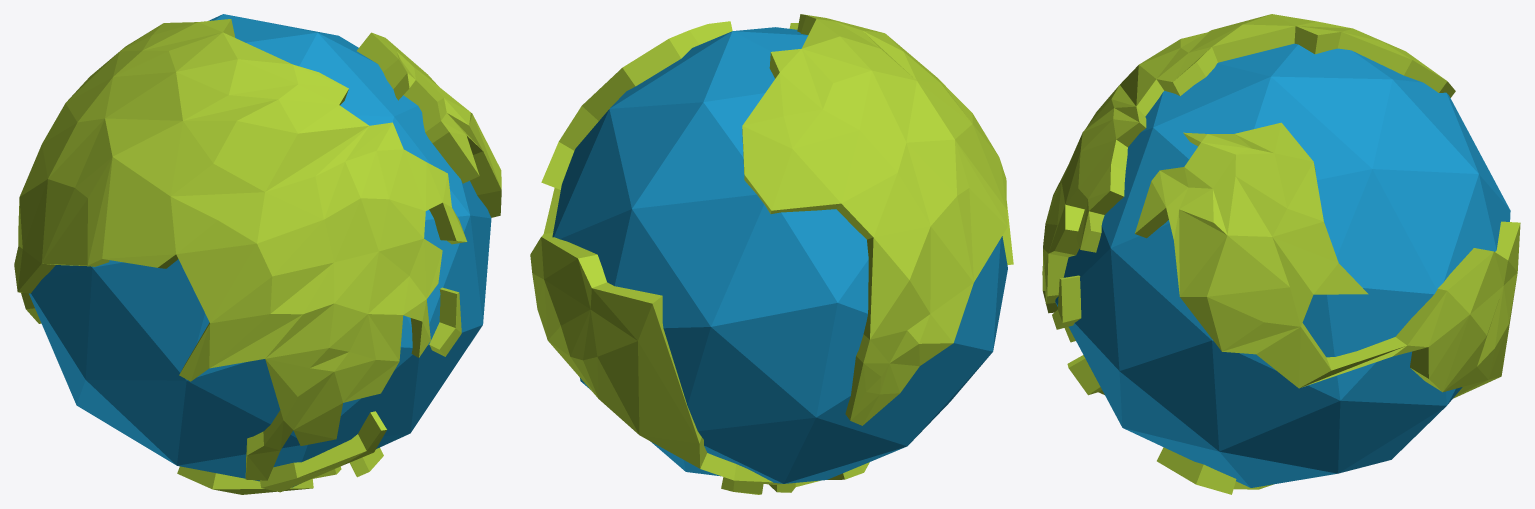
The model's file is planet00.FBX.
The picture shows the model from 3 angles, left to right: view 1: azimuth 30°, elevation 25°; view 2: azimuth 150°, elevation 25°; view 3: azimuth 270°, elevation 25°; orthographic projection.
Parts seen in each view (by area): view 1: planet00; view 2: planet00; view 3: planet00.
Boxes of the visible parts, x1=… form: planet00: x1=14, y1=14, x2=501, y2=494; planet00: x1=530, y1=14, x2=1013, y2=494; planet00: x1=1042, y1=14, x2=1520, y2=494.
Size of the model in its own units: 21.79 by 21.73 by 21.62.
